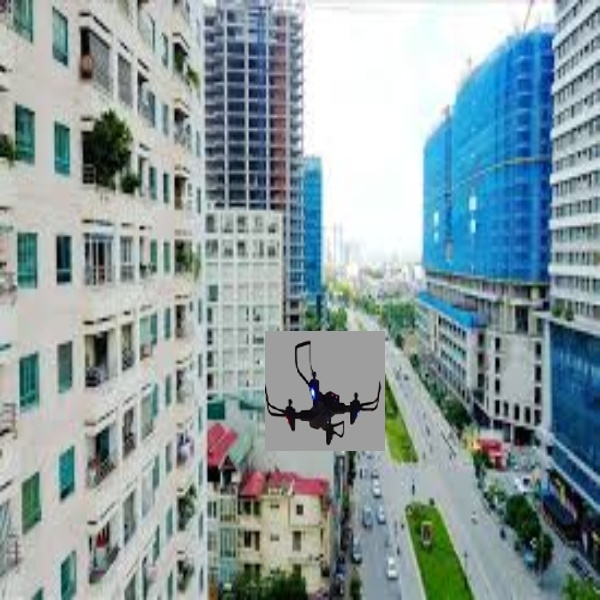drone: (264, 331, 382, 448)
